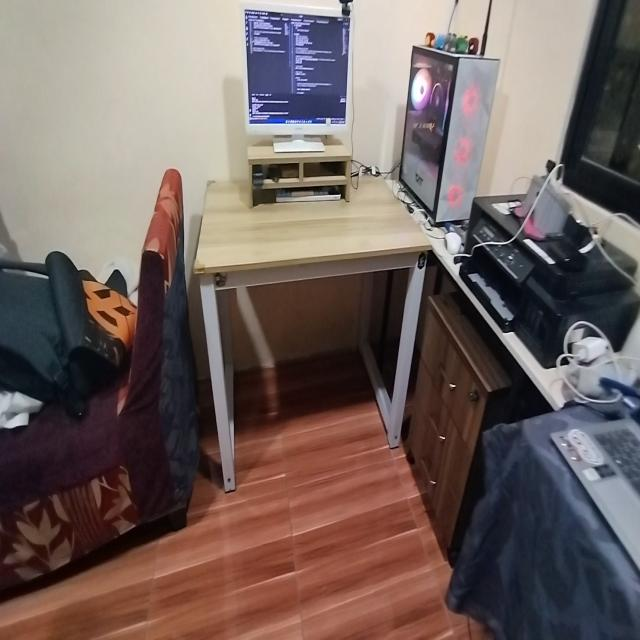table: (196, 153, 424, 475)
